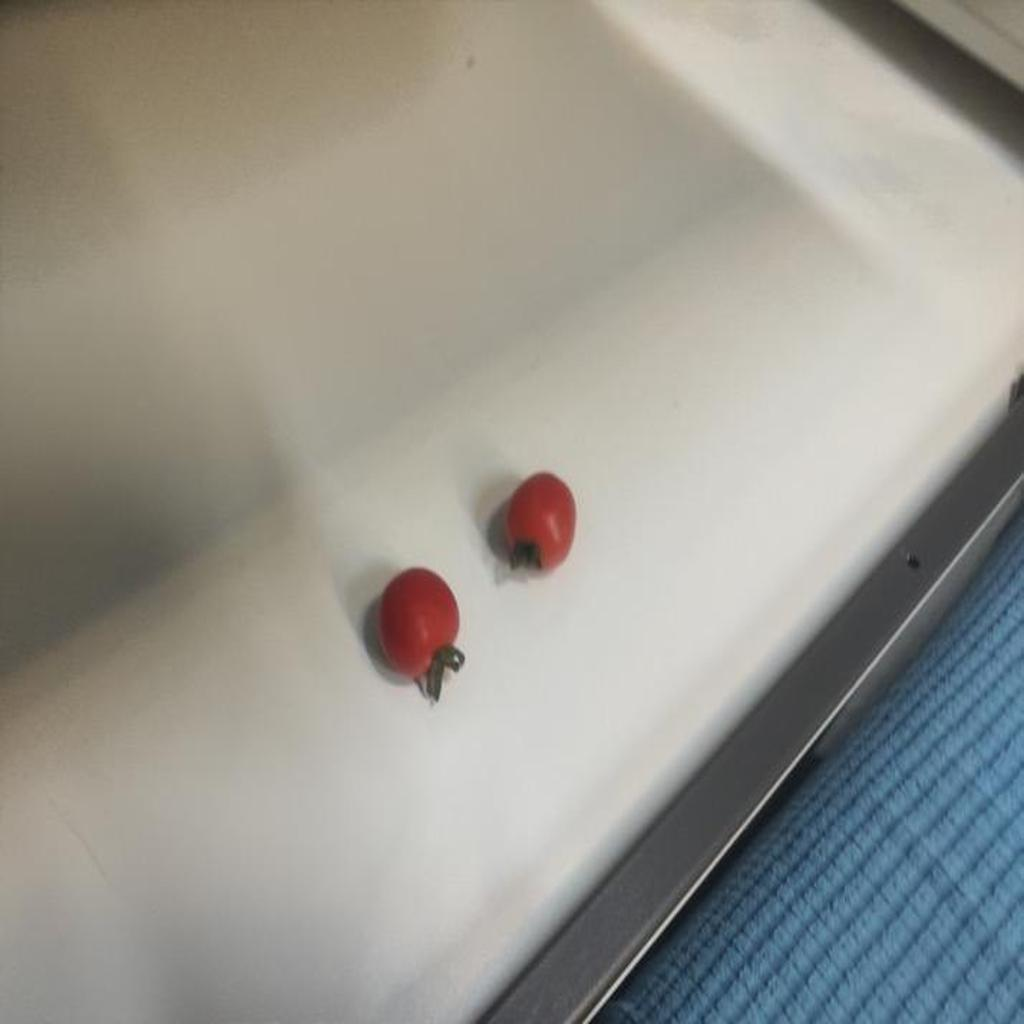tomato: (368, 566, 482, 692), (488, 470, 581, 568)
